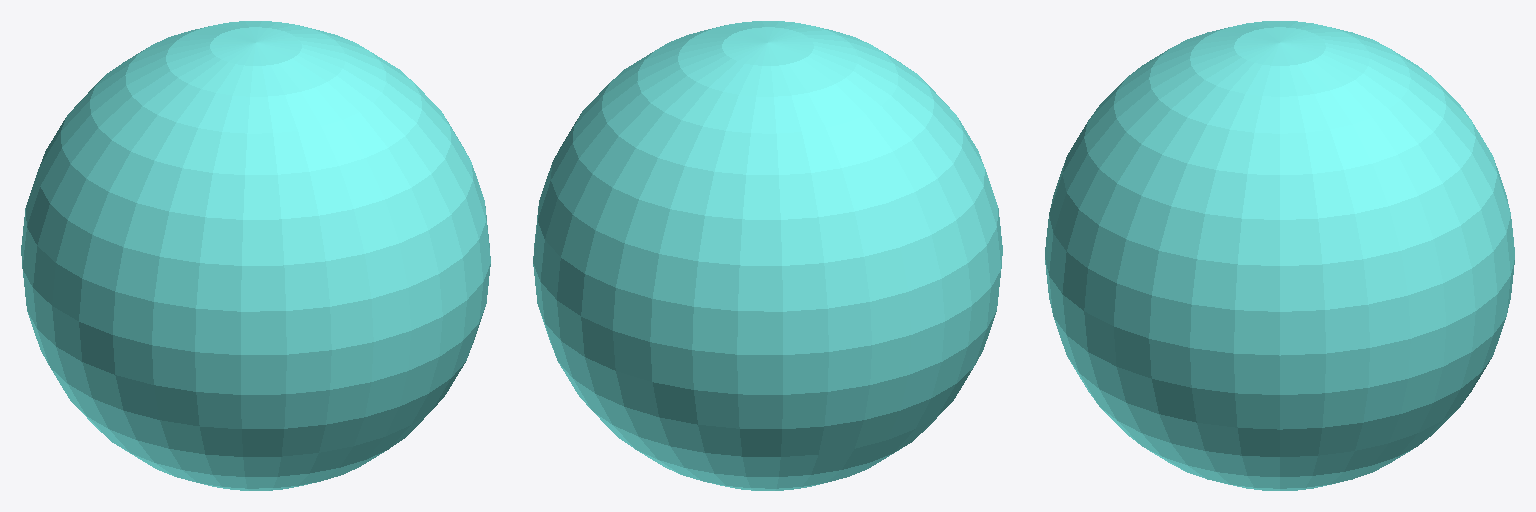
The picture shows the model from 3 angles: view 1: azimuth 30°, elevation 25°; view 2: azimuth 150°, elevation 25°; view 3: azimuth 270°, elevation 25°; orthographic projection.
Visible parts, largest first — view 1: 球; view 2: 球; view 3: 球.
Boxes of the visible parts, x1,y1,x2,y2 form: 球: [21, 21, 490, 490]; 球: [533, 21, 1002, 490]; 球: [1045, 21, 1514, 490].
Bounding box in the file's own units: 2 × 2 × 2.
1 materials, 1 textured.